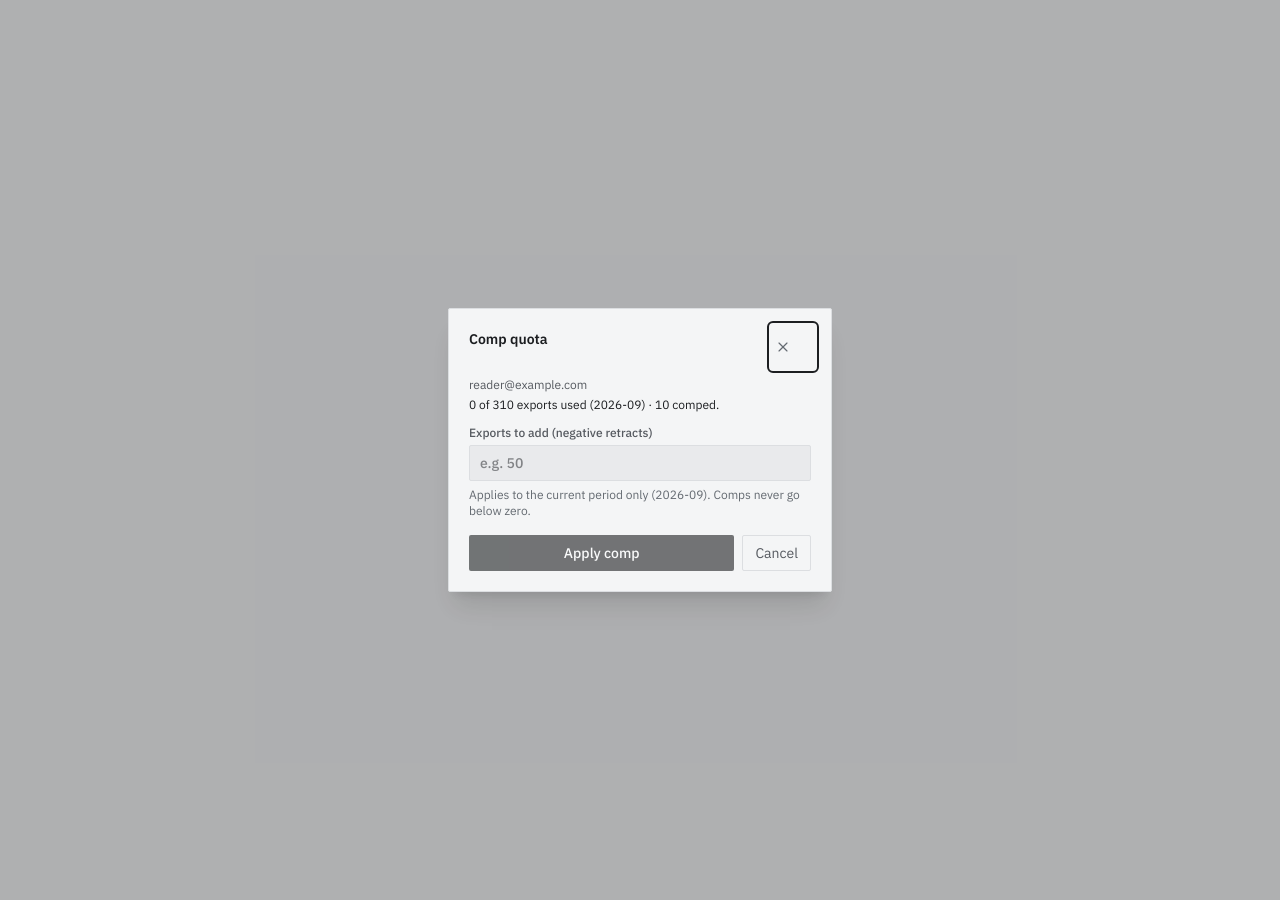
Test: surfaces the server error when comps would go below zero
Type "-100" into the number field with test id "comp-amount" at x=640, y=463, box [469,445,811,481]
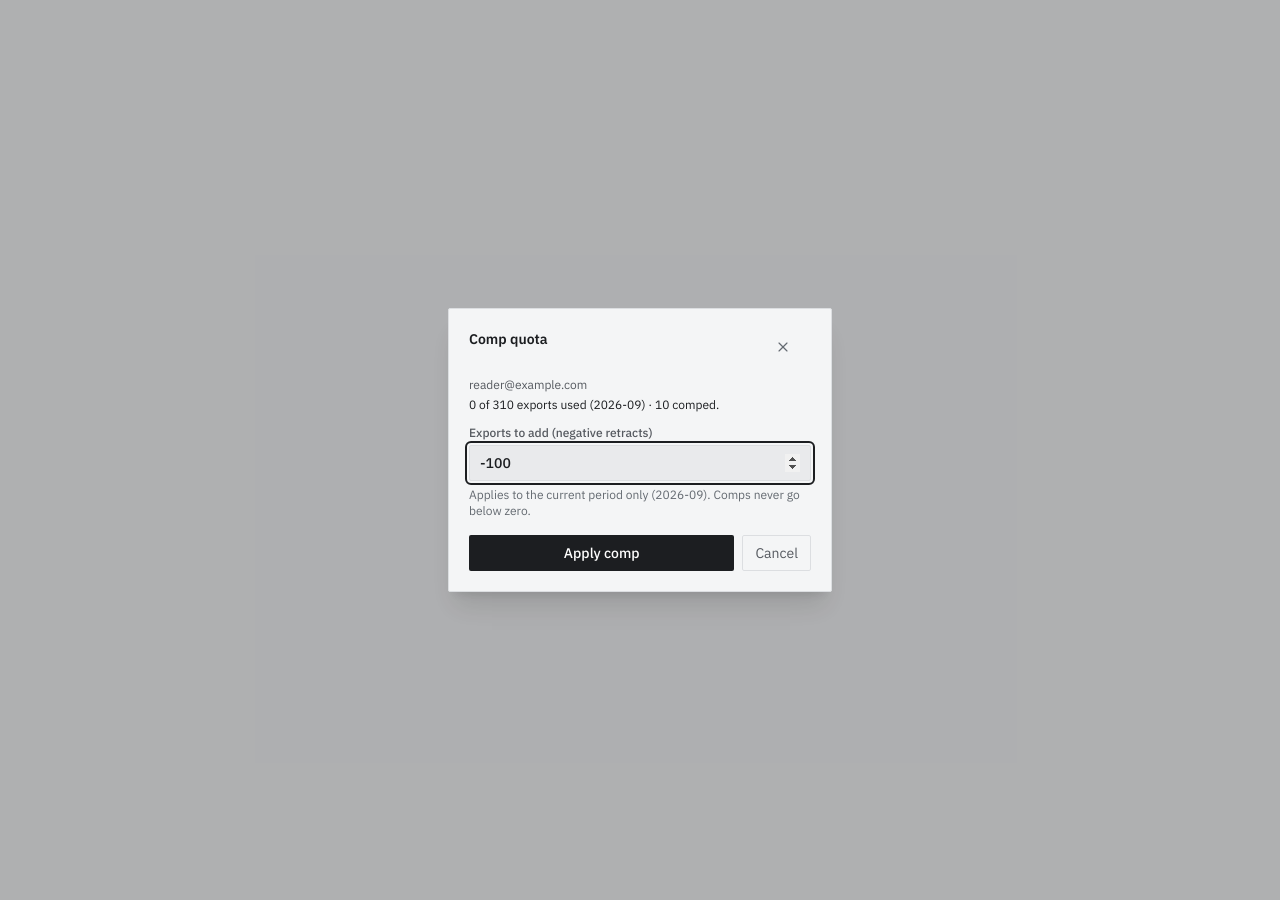
Click the button with test id "confirm-comp" at x=602, y=553, box [469,535,734,571]
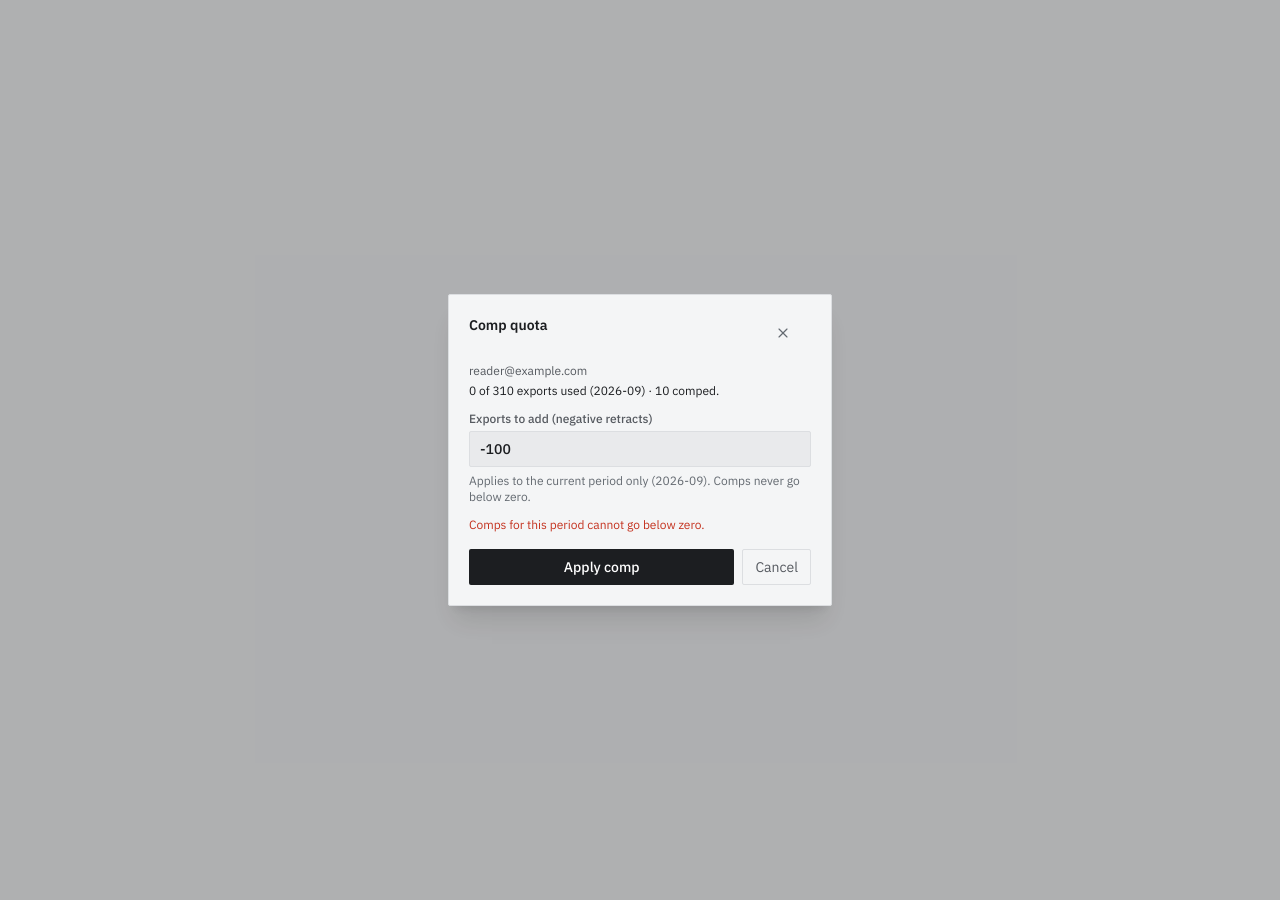
Now the message reads "Comps for this period cannot go below zero.", box [469,517,705,532]
